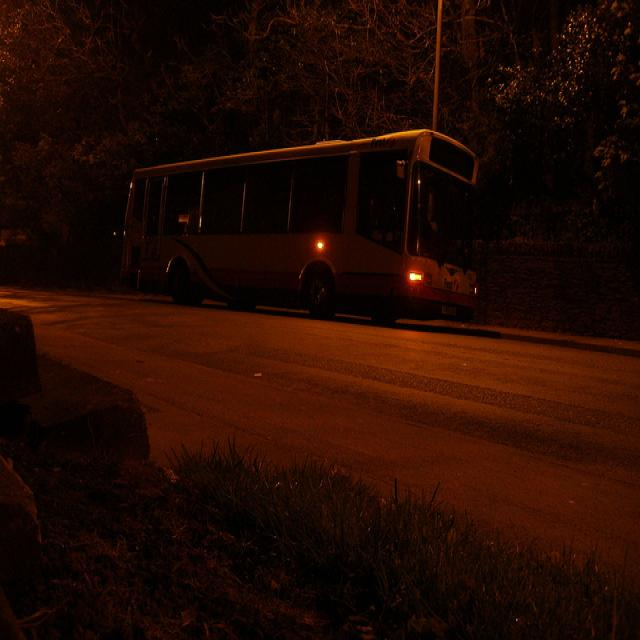Bus: (76, 102, 543, 346)
